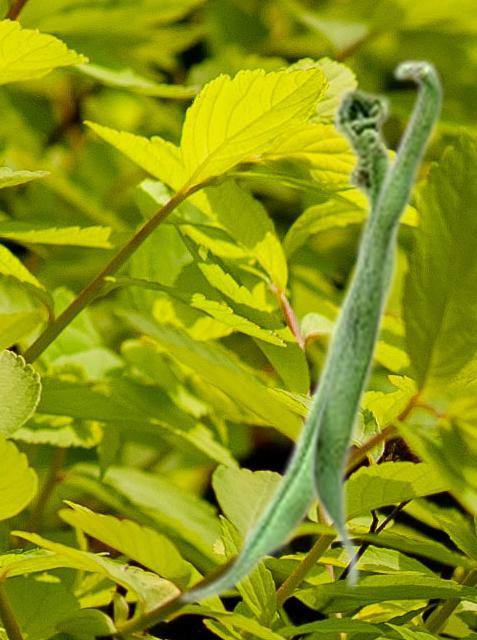french_bean: (176, 83, 399, 605), (307, 57, 444, 592)
